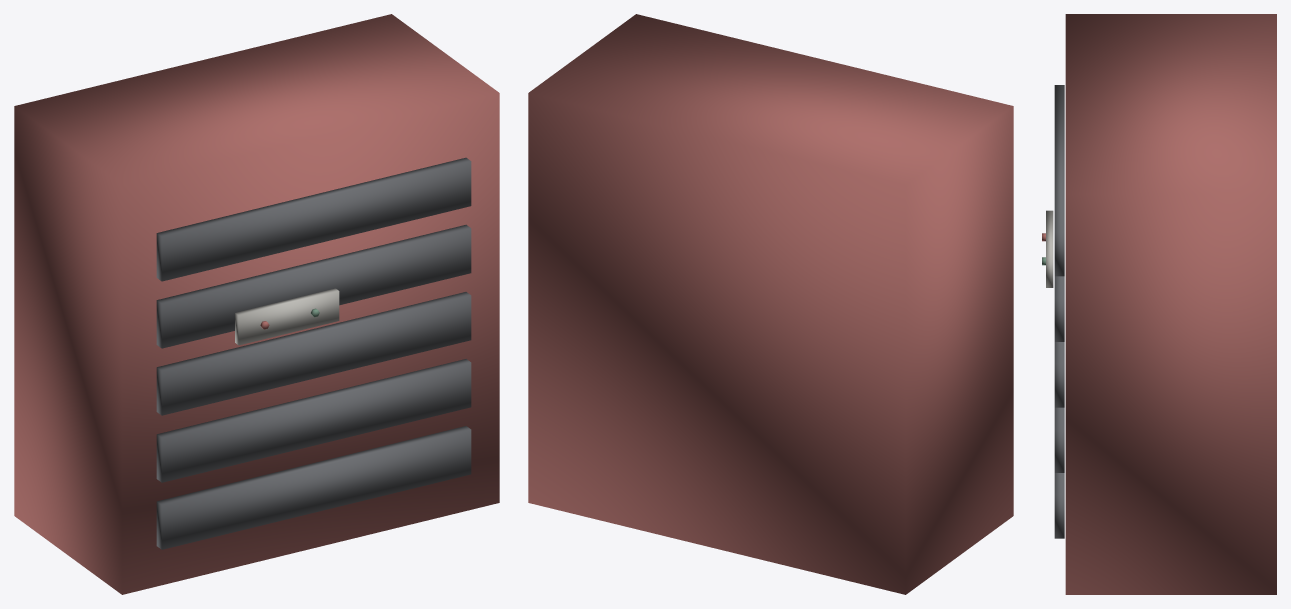
The model's file is tool_cabinet__reinforced.glb.
3 views of the same model, side by side, from view 1: azimuth 30°, elevation 25°; view 2: azimuth 150°, elevation 25°; view 3: azimuth 270°, elevation 25° (orthographic). The views are drawn at different scales.
Parts seen in each view (by area): view 1: world; view 2: world; view 3: world.
Part boxes in pixels (x1,y1,x2,y2): world: [14, 14, 499, 594]; world: [528, 14, 1013, 594]; world: [1042, 14, 1276, 594].
Bounding box in the file's own units: 1.08 × 1.12 × 0.5959.
